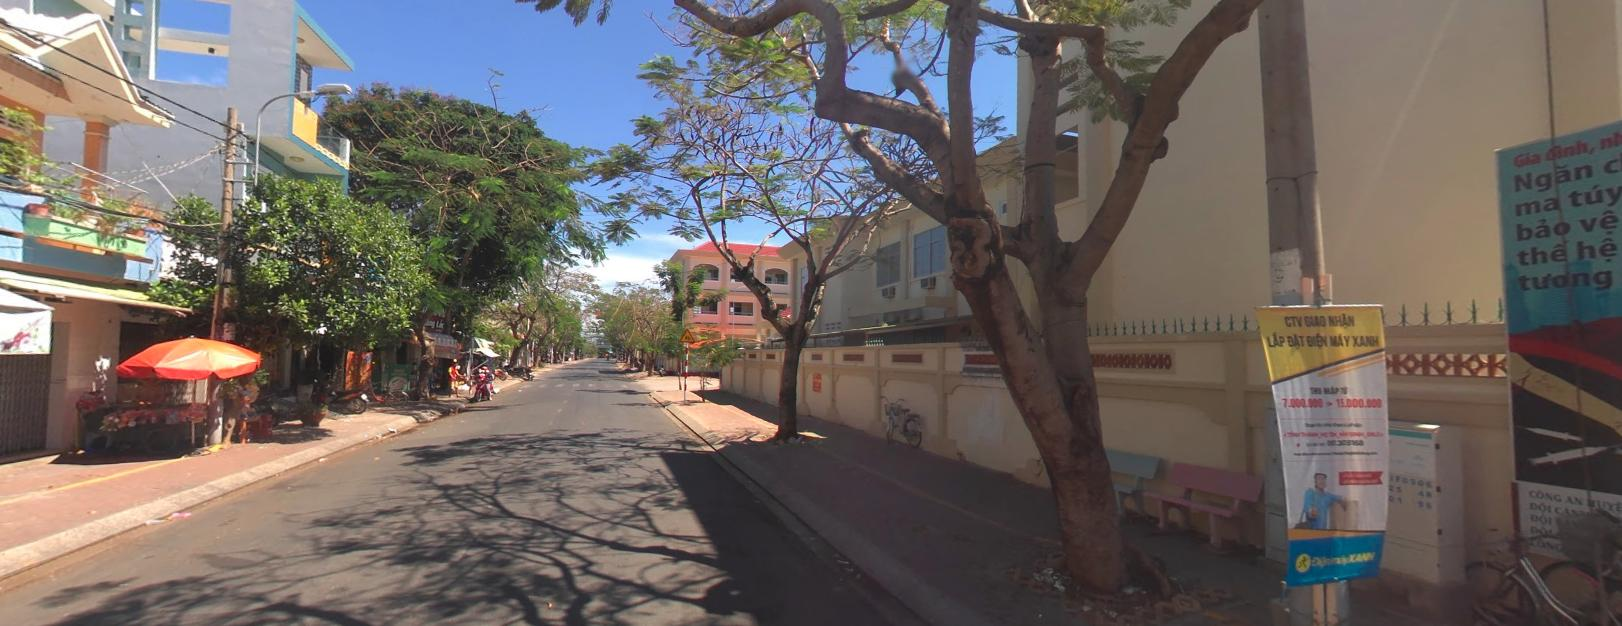Nguy hiem: (678, 325, 695, 341), (678, 326, 694, 341), (678, 326, 695, 340), (678, 326, 694, 340)
